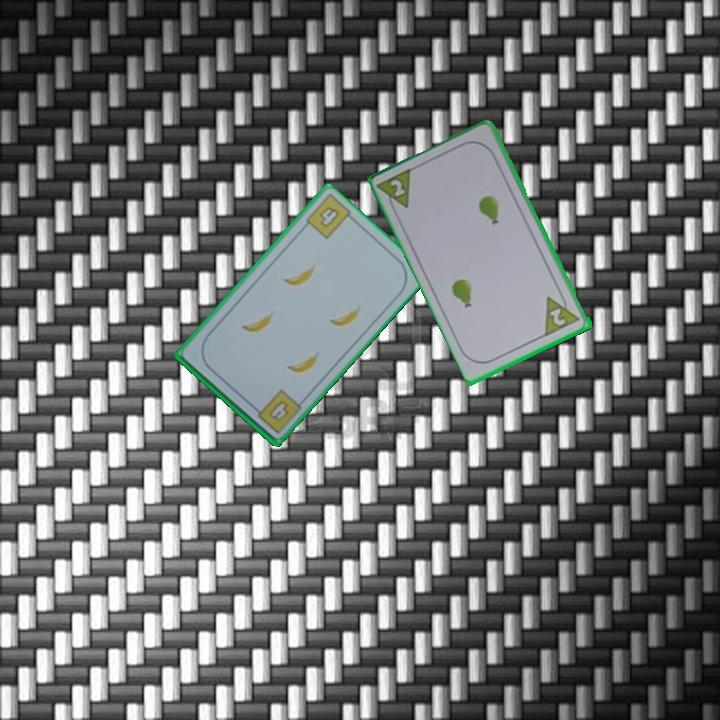2p: (547, 305, 569, 329), (387, 176, 409, 200)
4b: (248, 386, 304, 436), (316, 202, 343, 230)
